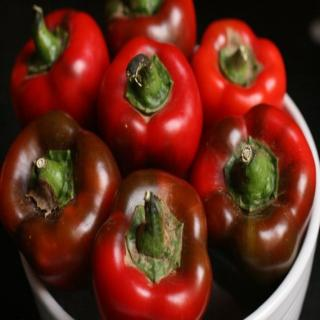Bell pepper: (0, 0, 319, 319)
Tomato: (189, 102, 319, 278), (5, 115, 115, 293), (93, 165, 214, 319), (94, 30, 208, 177), (12, 2, 108, 127), (190, 16, 290, 131), (105, 0, 198, 56)
